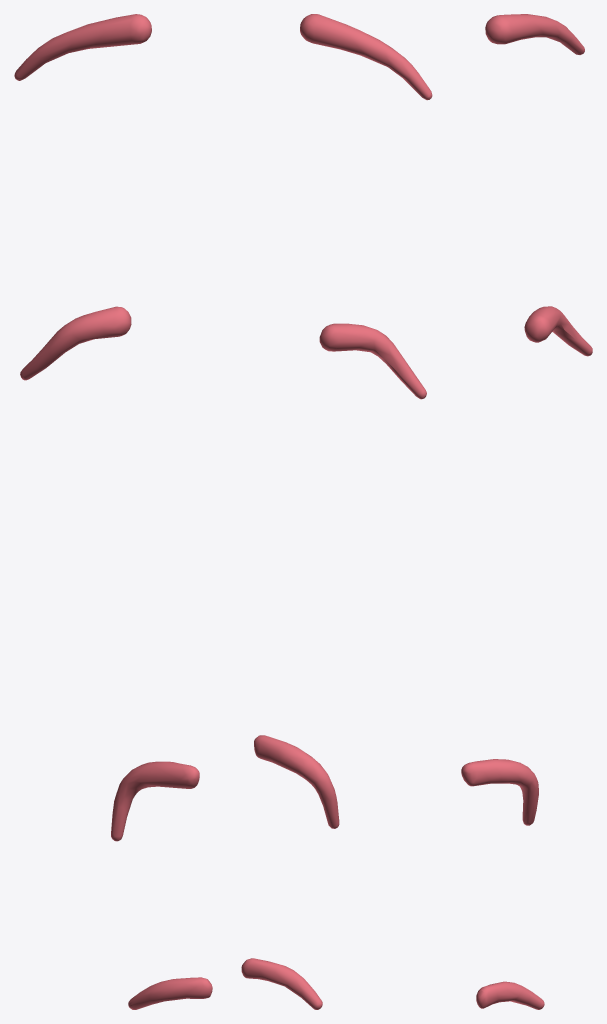
The model's file is fma70922_fj2192.glb.
The picture shows the model from 3 angles, left to right: view 1: azimuth 30°, elevation 25°; view 2: azimuth 210°, elevation 25°; view 3: azimuth 270°, elevation 25°; orthographic projection. The views are drawn at different scales.
Visible parts, largest first — view 1: FMA70922_FJ2192; view 2: FMA70922_FJ2192; view 3: FMA70922_FJ2192.
Part boxes in pixels (x1=…): FMA70922_FJ2192: x1=14, y1=14, x2=212, y2=1009; FMA70922_FJ2192: x1=241, y1=14, x2=432, y2=1009; FMA70922_FJ2192: x1=461, y1=14, x2=592, y2=1009.
Bounding box in the file's own units: 0.027 × 0.1778 × 0.0216.
